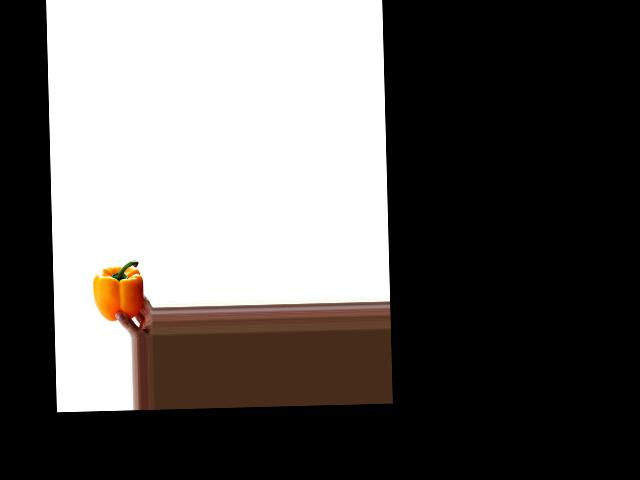bell_pepper: (91, 258, 144, 322)
